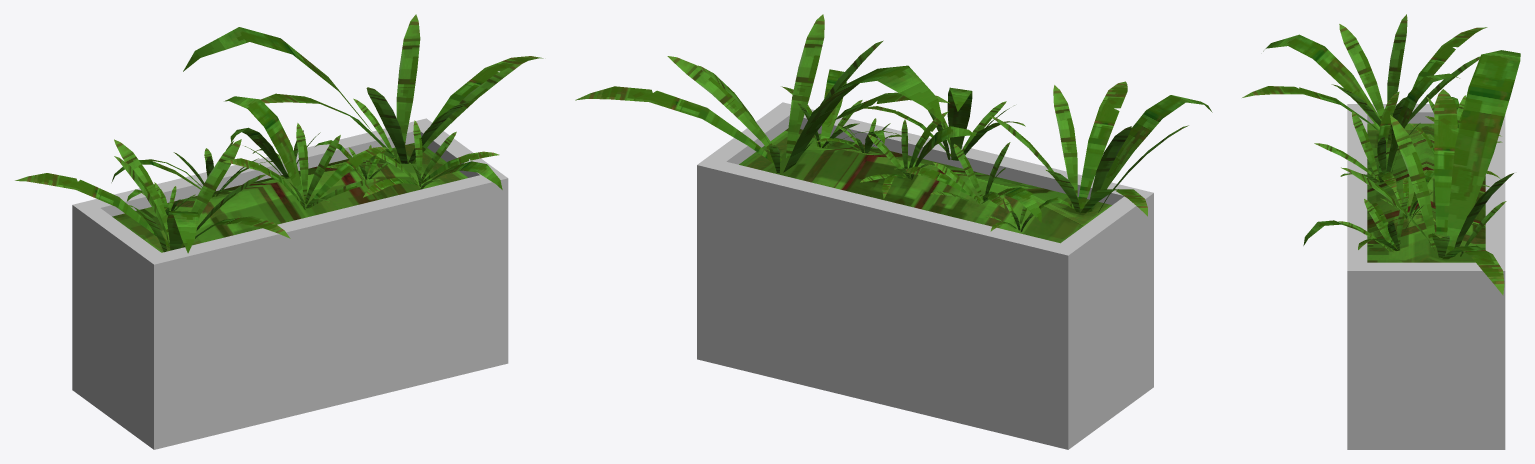
Rendered from sm_Flower_works_all.fbx.
3 renders of one model, left to right at view 1: azimuth 30°, elevation 25°; view 2: azimuth 150°, elevation 25°; view 3: azimuth 270°, elevation 25°, orthographic. The views are drawn at different scales.
Parts seen in each view (by area): view 1: sm_wallFlower; view 2: sm_wallFlower; view 3: sm_wallFlower.
Boxes of the visible parts, x1,y1,x2,y2 form: sm_wallFlower: [15, 14, 543, 449]; sm_wallFlower: [575, 14, 1212, 449]; sm_wallFlower: [1242, 14, 1520, 449].
Size of the model in its own units: 304 by 171 by 142.
